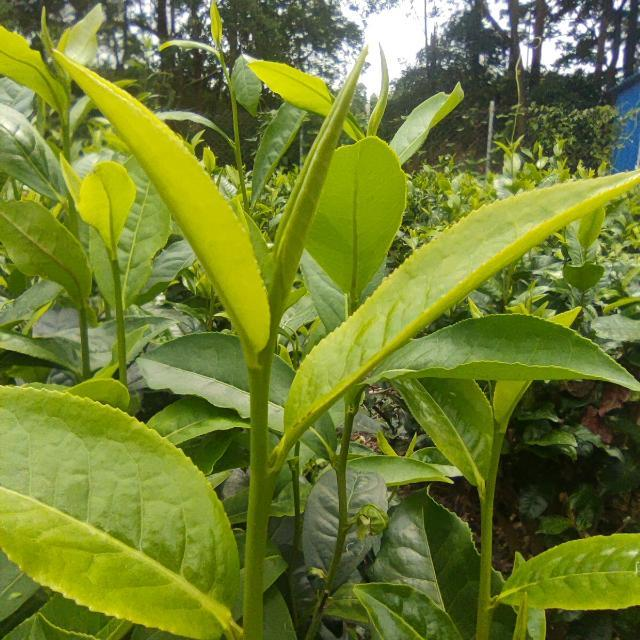Stem: (248, 362, 271, 390), (481, 496, 493, 509), (62, 126, 69, 135)
